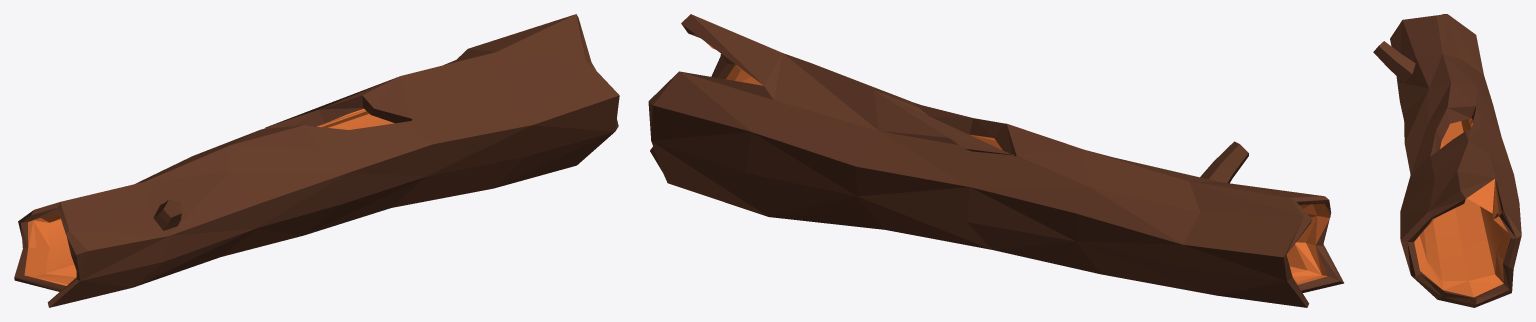
File: TreeTrunkOld_002.FBX
3 renders of one model, left to right at view 1: azimuth 30°, elevation 25°; view 2: azimuth 150°, elevation 25°; view 3: azimuth 270°, elevation 25°, orthographic. The views are drawn at different scales.
Parts seen in each view (by area): view 1: TreeTrunk_002, Branch_006; view 2: TreeTrunk_002, Branch_006; view 3: TreeTrunk_002, Branch_006.
Part boxes in pixels (x1,y1,x2,y2): TreeTrunk_002: (14, 14, 619, 307); Branch_006: (153, 199, 181, 230); TreeTrunk_002: (648, 14, 1343, 307); Branch_006: (1200, 141, 1248, 183); TreeTrunk_002: (1390, 14, 1521, 307); Branch_006: (1373, 41, 1415, 82).
Bounding box in the file's own units: 19.24 × 4.43 × 5.05.
